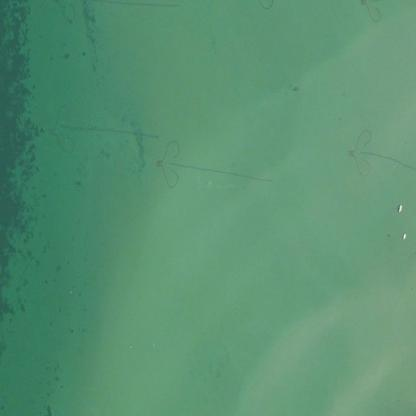ship: (398, 228, 410, 242), (394, 199, 405, 214)
